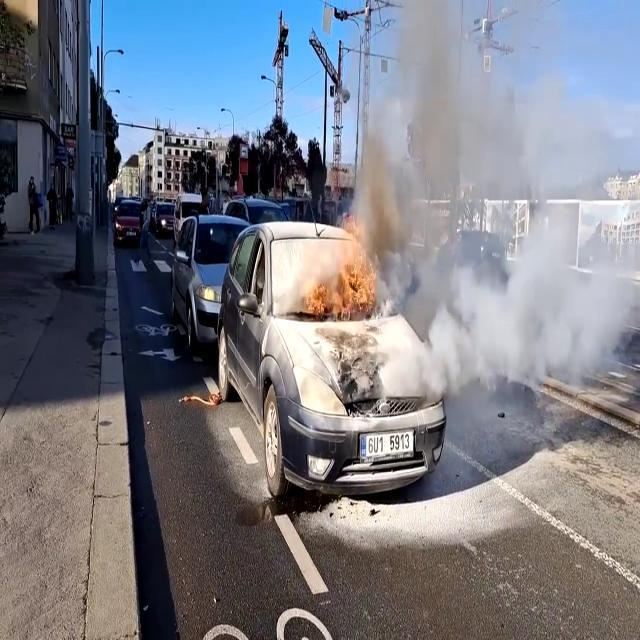Fire: (310, 237, 382, 321)
Smoke: (358, 4, 639, 450)
